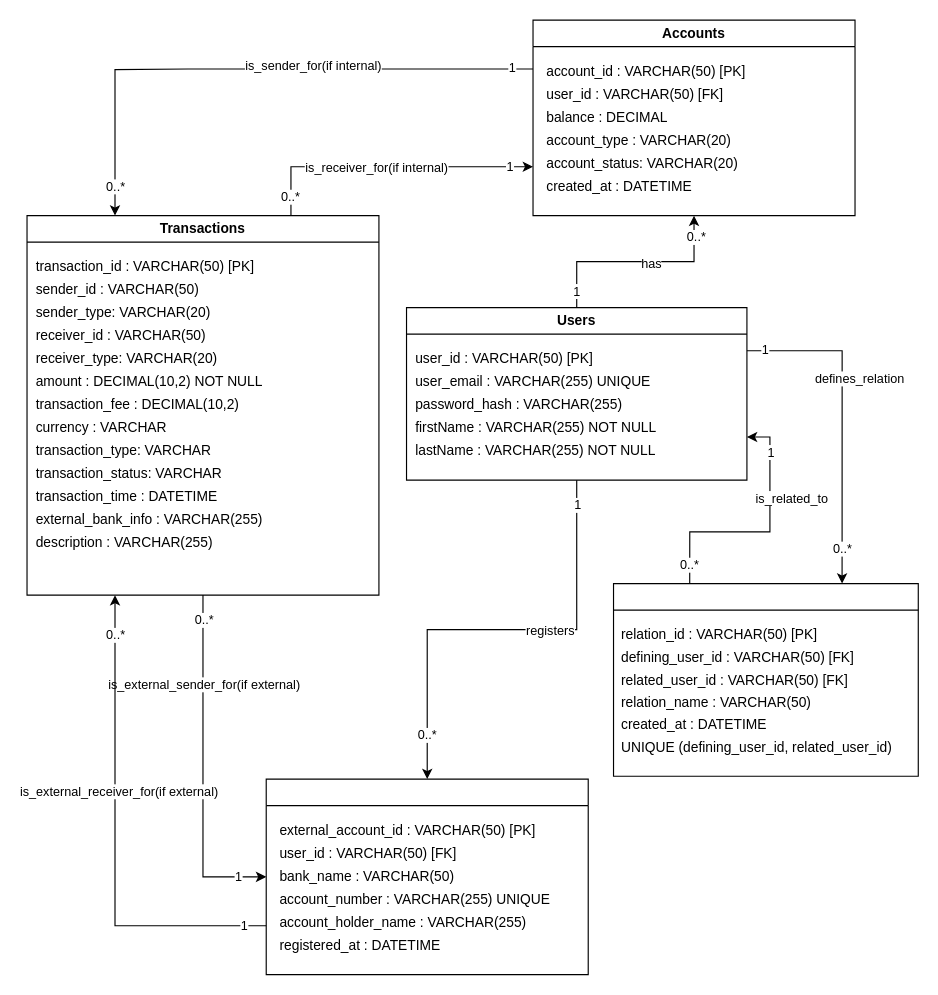
Image size: 938x995. Some labels were removed from this diagram. Each missing label, with the box of its shape:
External_Accounts: (265, 778, 588, 975)
UserRelations: (612, 582, 918, 776)
